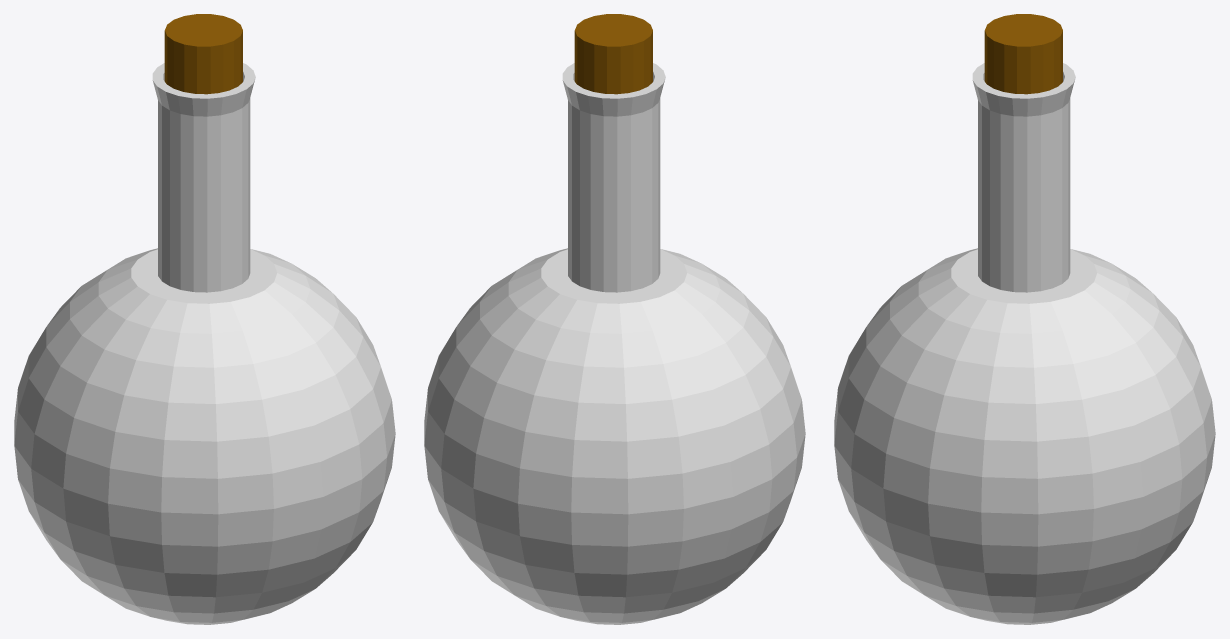
Rendered from WiększaMikstura.fbx.
The picture shows the model from 3 angles, left to right: view 1: azimuth 30°, elevation 25°; view 2: azimuth 150°, elevation 25°; view 3: azimuth 270°, elevation 25°; orthographic projection.
Parts seen in each view (by area): view 1: Bottle, Plug; view 2: Bottle, Plug; view 3: Bottle, Plug.
Part boxes in pixels (left/top/right/bottom): Bottle: left=14, top=63, right=395, bottom=624; Plug: left=164, top=14, right=242, bottom=94; Bottle: left=424, top=63, right=805, bottom=624; Plug: left=574, top=14, right=652, bottom=94; Bottle: left=834, top=63, right=1215, bottom=624; Plug: left=984, top=14, right=1062, bottom=94.
Bounding box in the file's own units: 99.72 × 166 × 99.44.
